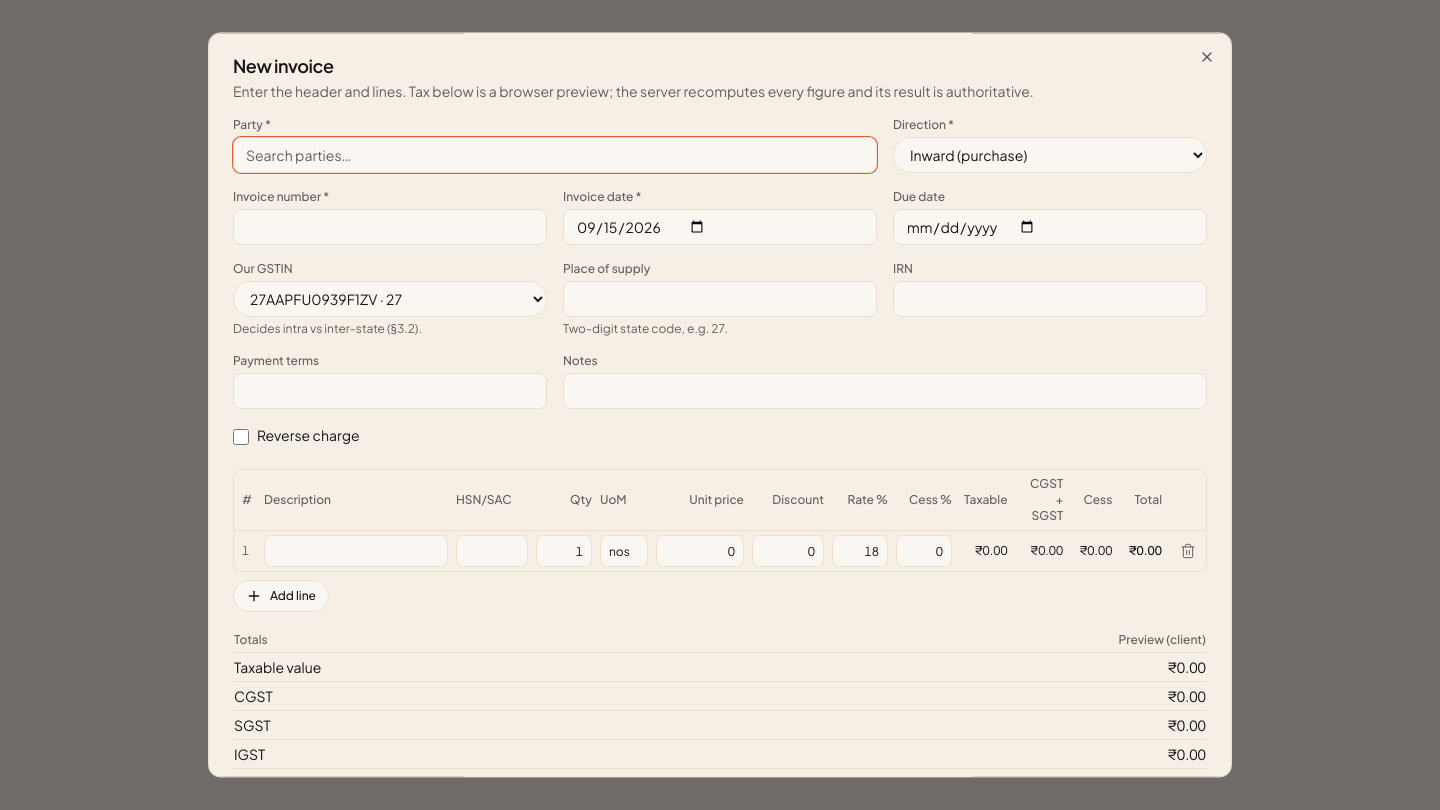
Test: NewInvoiceDialog validation and save › blocks submission with zero lines
expect the dropdown showing "27AAPFU0939F1ZV · 27" is shown: met, box x1=233 y1=281 x2=547 y2=317
Click the button named "Remove line 1": (1188, 551) x1=1174 y1=537 x2=1202 y2=565
(page scrolled)
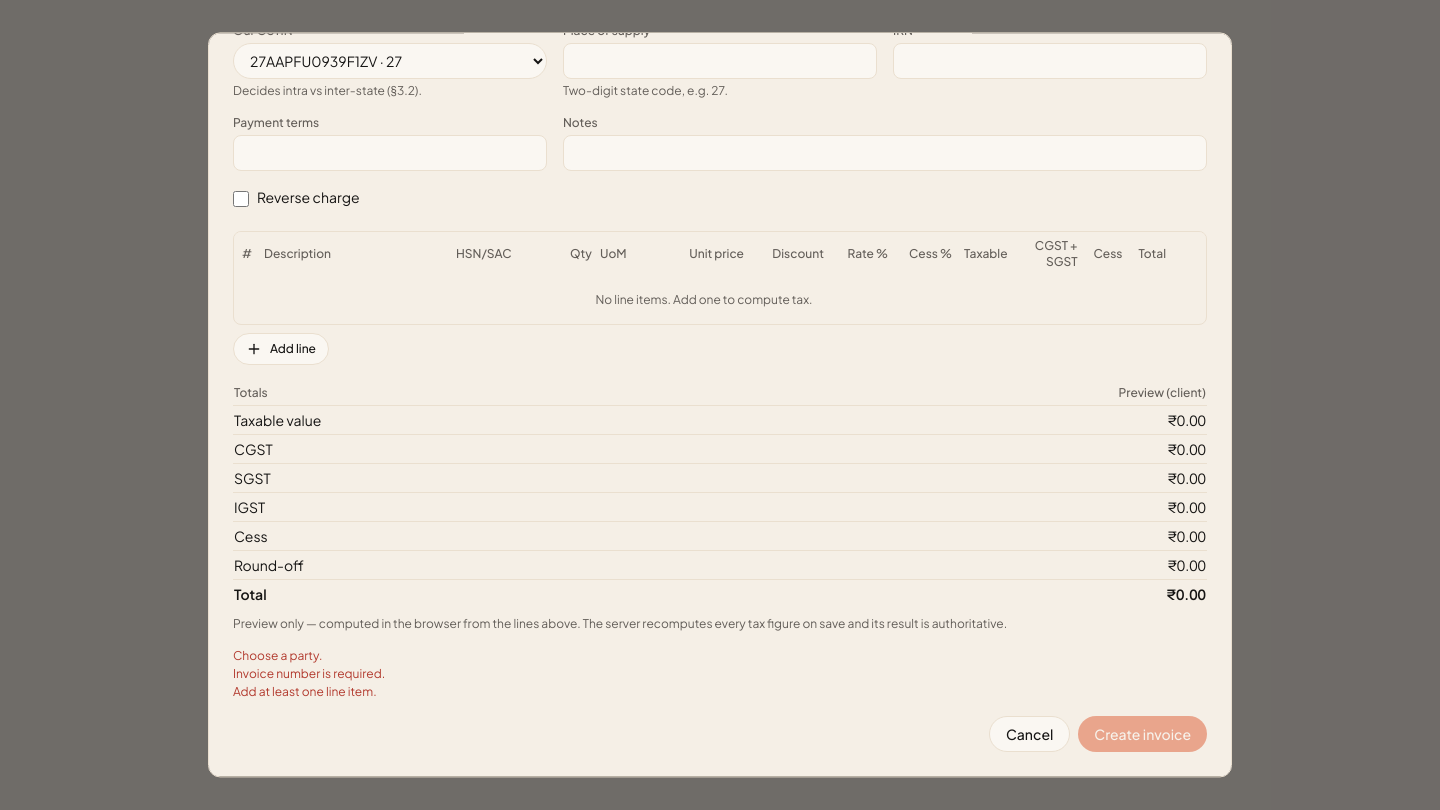
expect the list item "Add at least one line item." is shown: met, box x1=233 y1=684 x2=377 y2=699
expect the button "Create invoice" is disabled: met, box x1=1078 y1=716 x2=1207 y2=752
